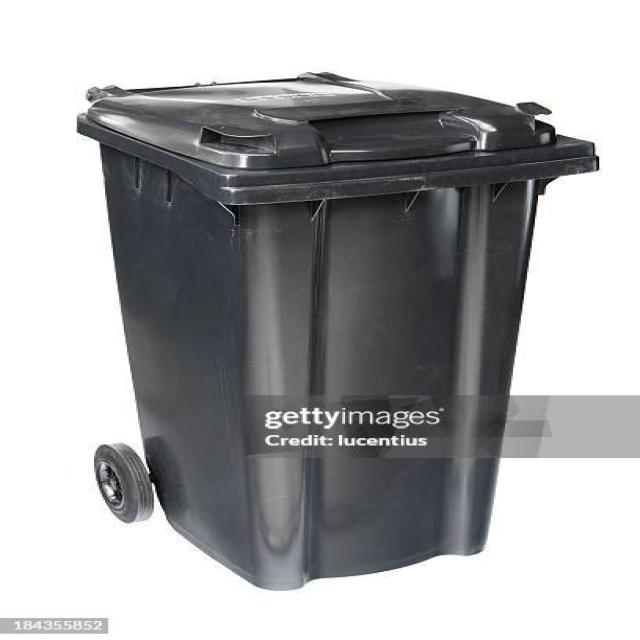garbage container: (52, 60, 614, 596)
